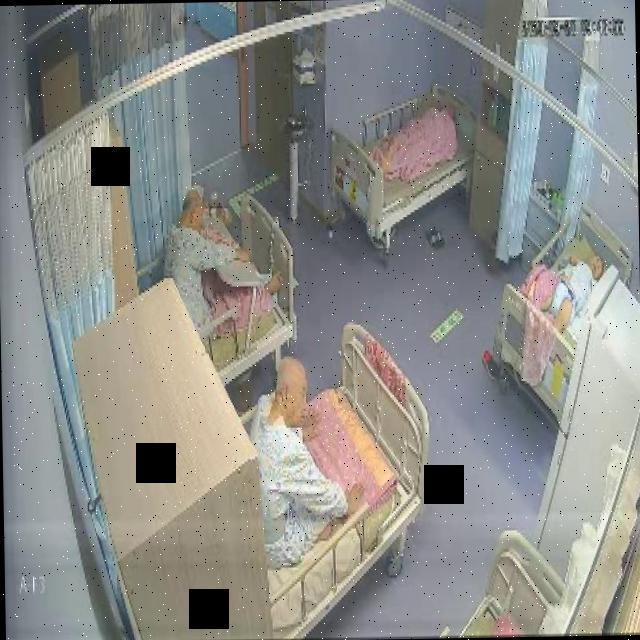bed: (233, 325, 433, 640), (491, 205, 634, 422), (160, 201, 294, 386), (331, 80, 476, 240)
lie: (552, 249, 609, 329)
patient: (250, 348, 364, 570), (160, 183, 284, 343), (551, 248, 608, 329)
sit: (250, 348, 364, 571), (161, 183, 283, 344)
